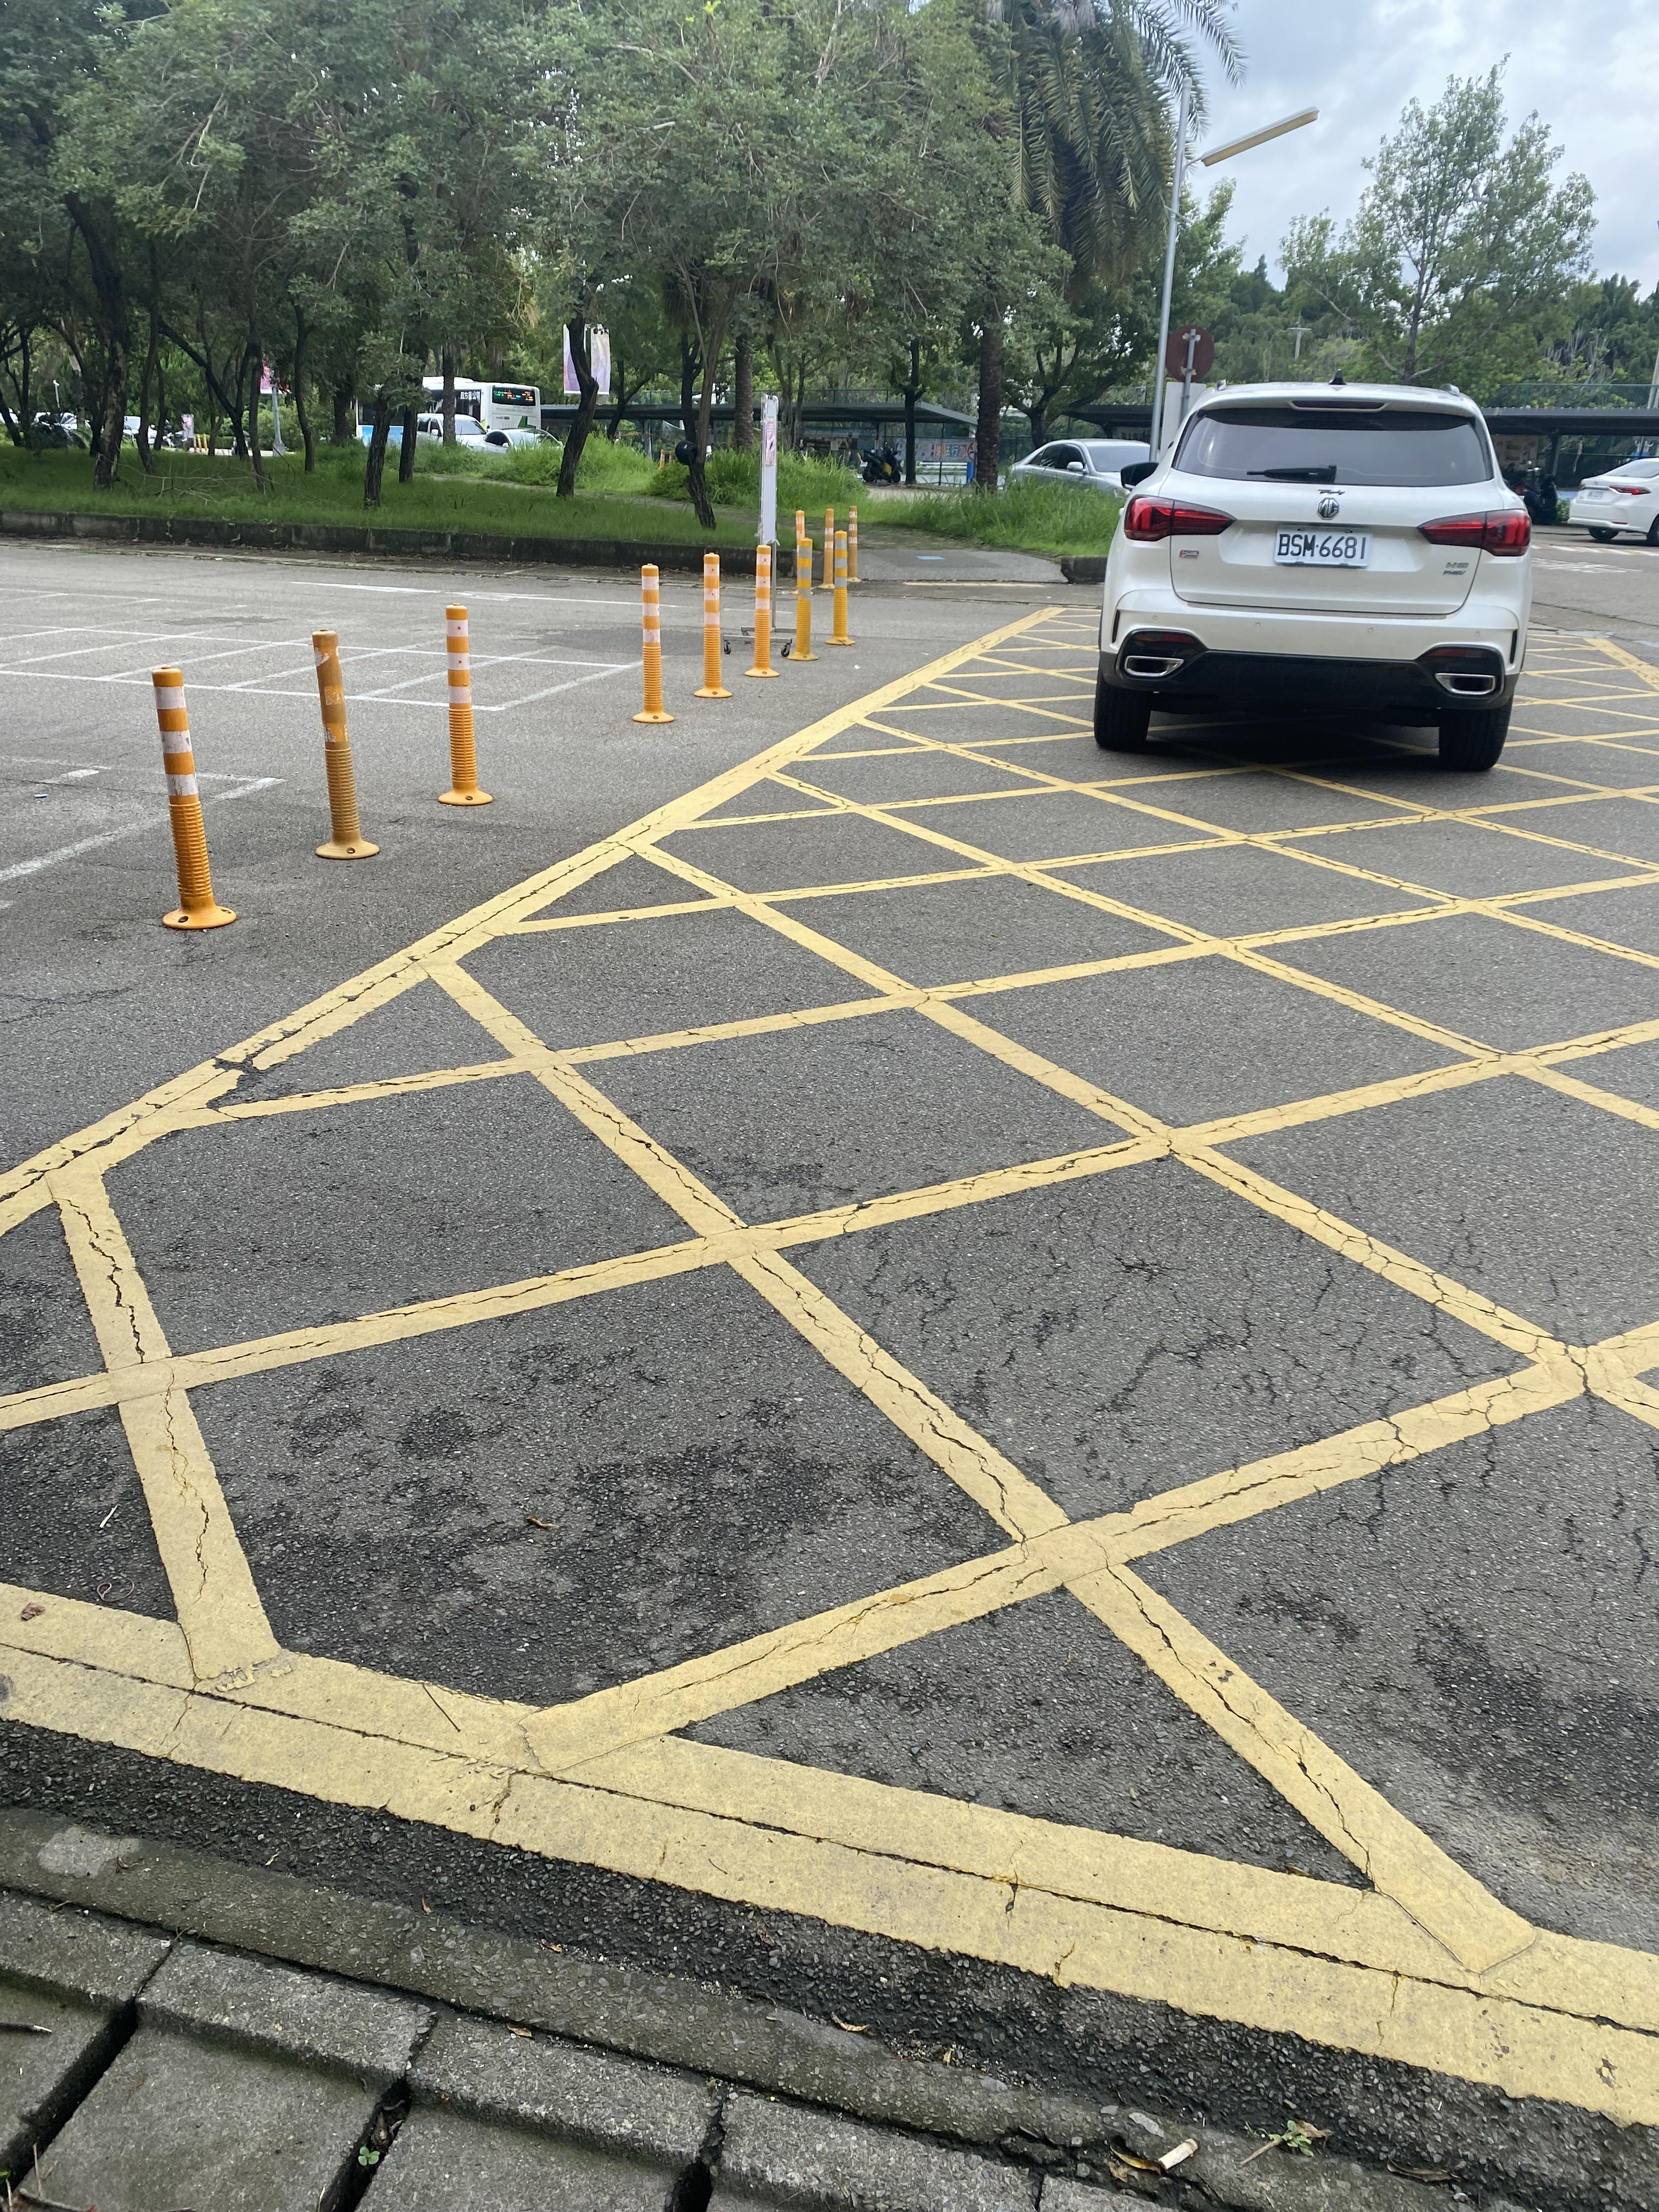sidewalk: (795, 486, 1086, 622)
